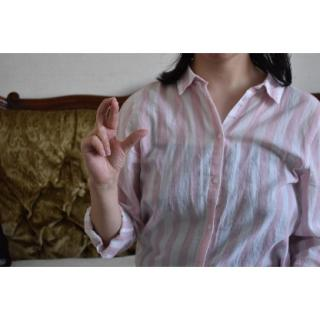DHELL: (79, 92, 149, 198)
